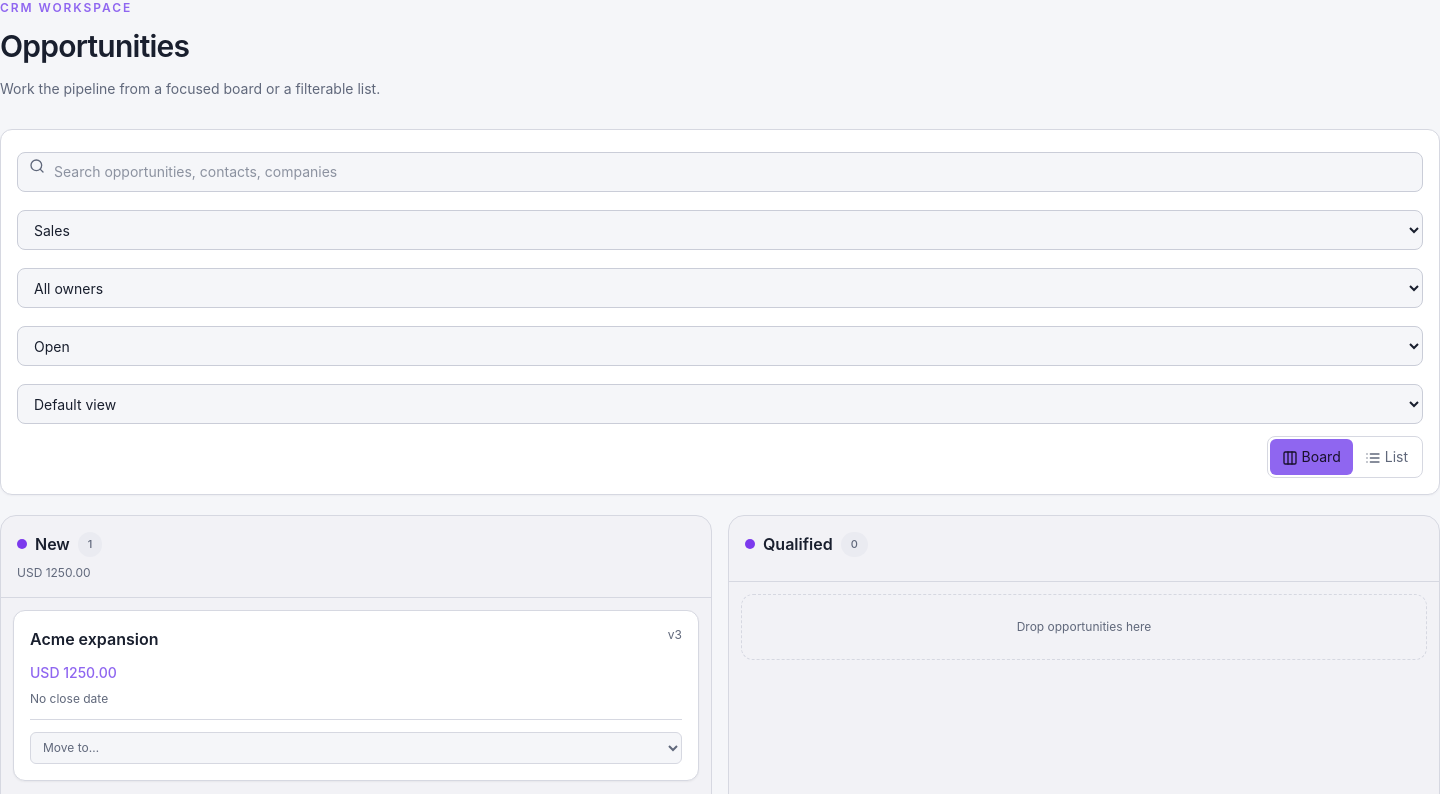
OpportunityBoardPage › shows version conflicts and refetches the authoritative board after a failed transition
This screenshot has width=1440, height=794.
Select "Qualified" in the dropdown named "Move Acme expansion" at (356, 748), box [30,732,682,764]
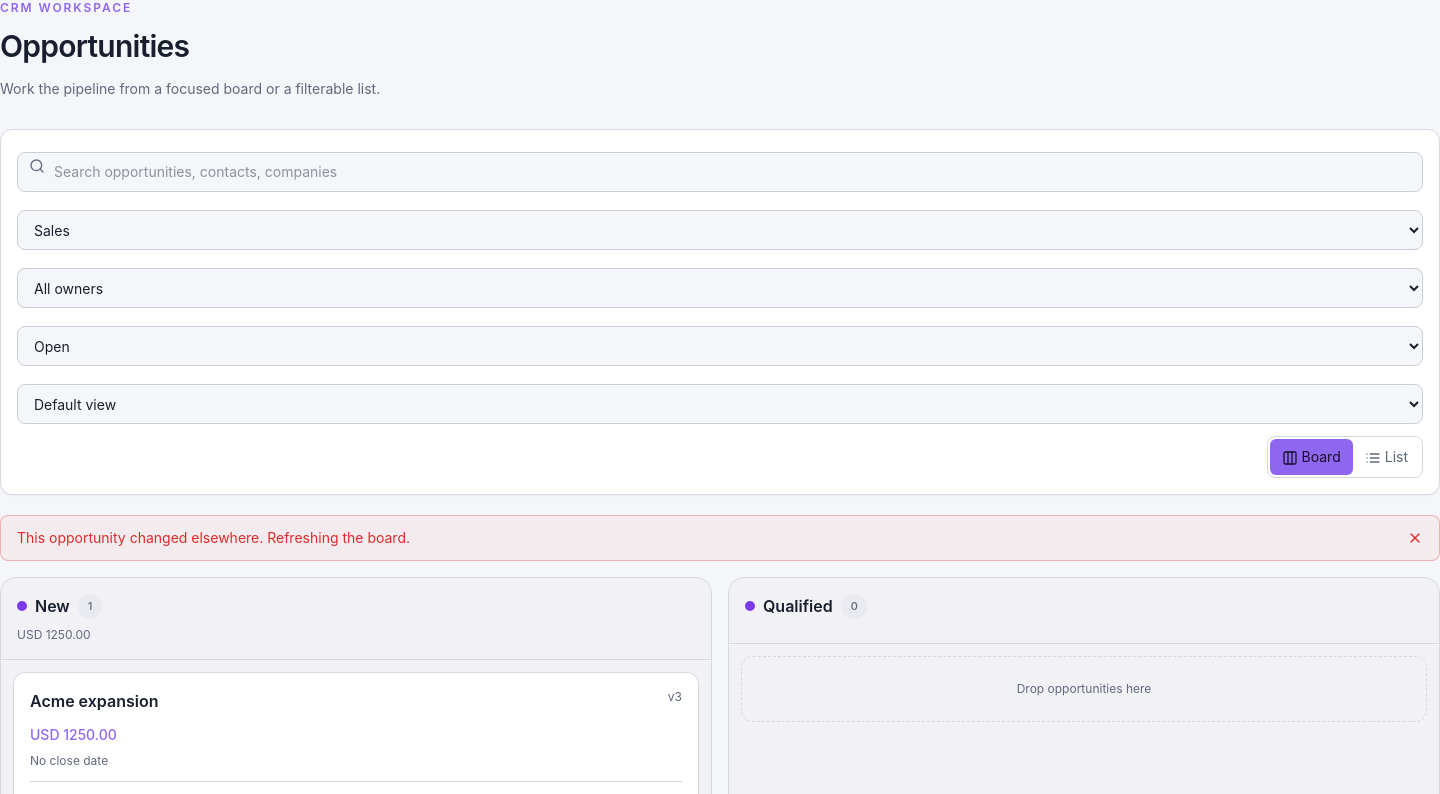
Result: the text "This opportunity changed elsewhere. Refreshing the board." is shown at [0,515,1439,561]
